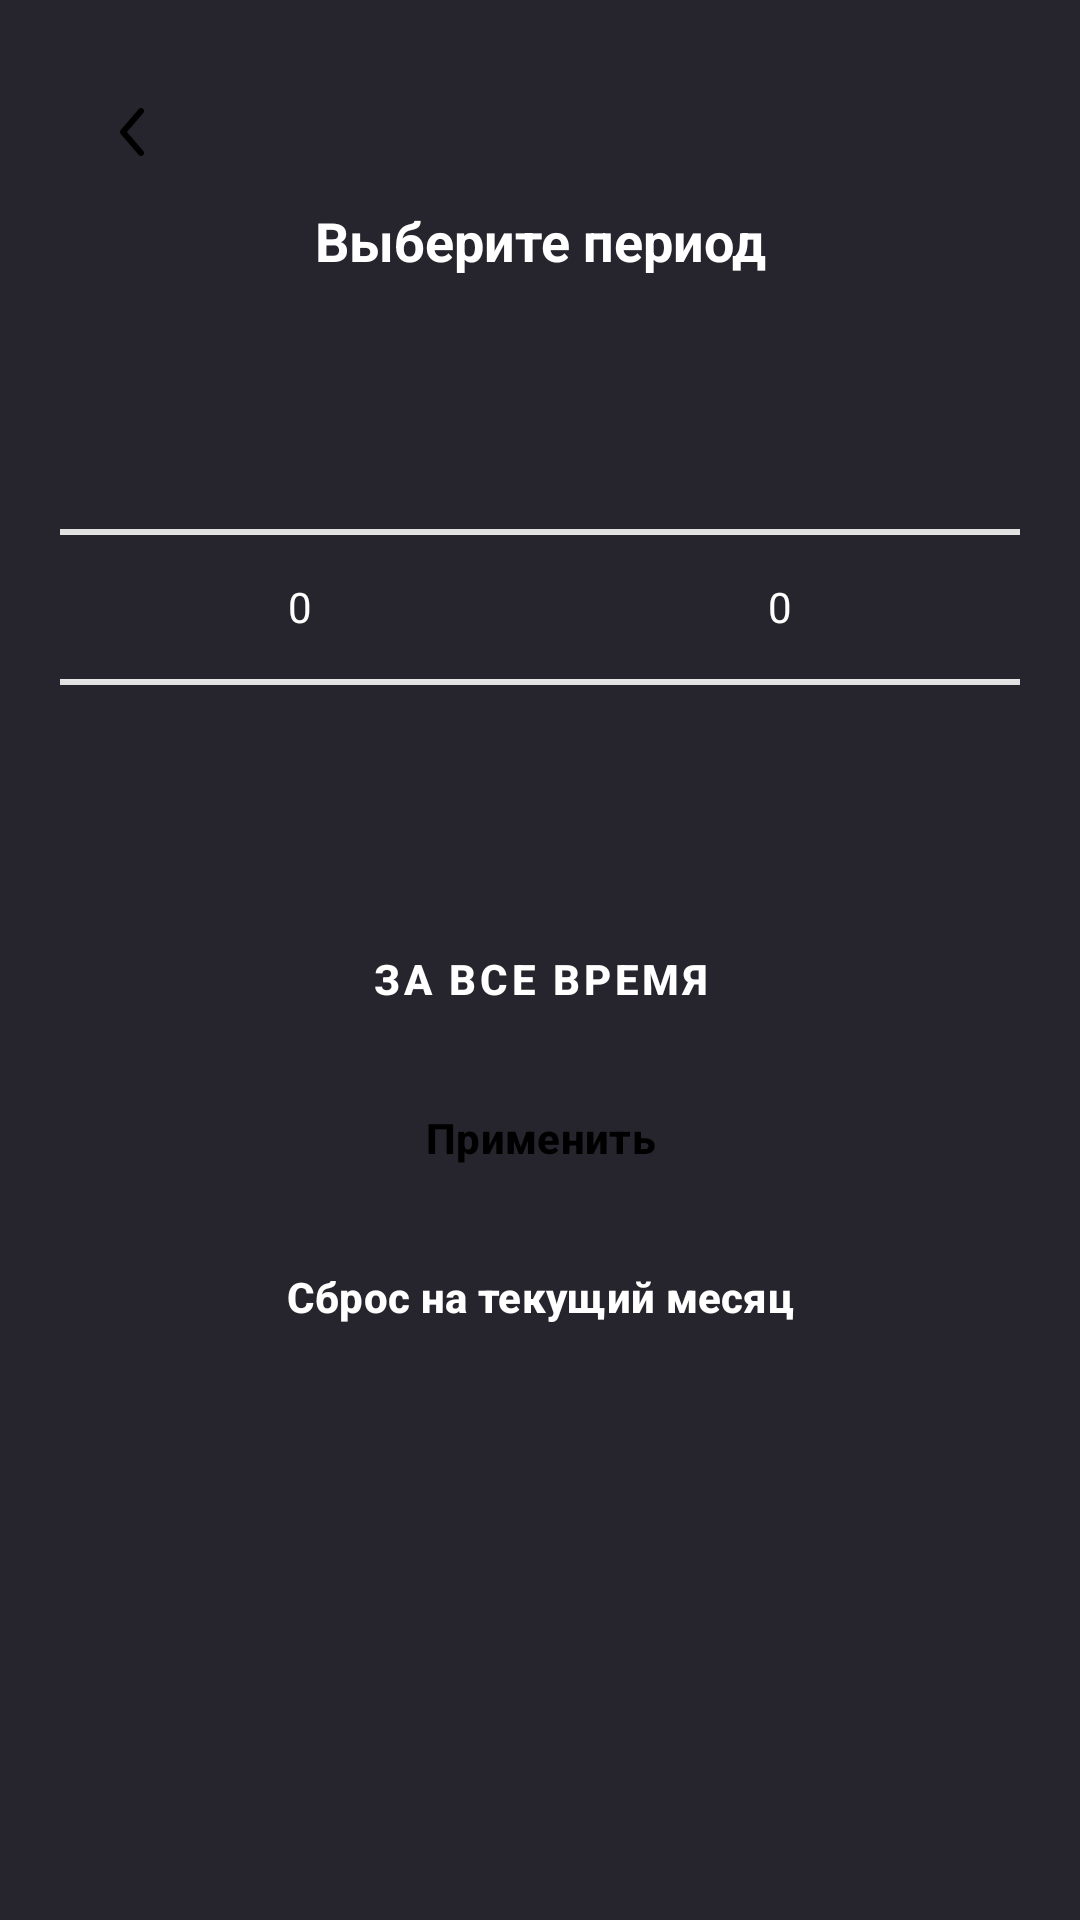

Icons on this 1080 x 1920 Android screen, each with the point to tap as point (x, y):
back: point (132, 132)
